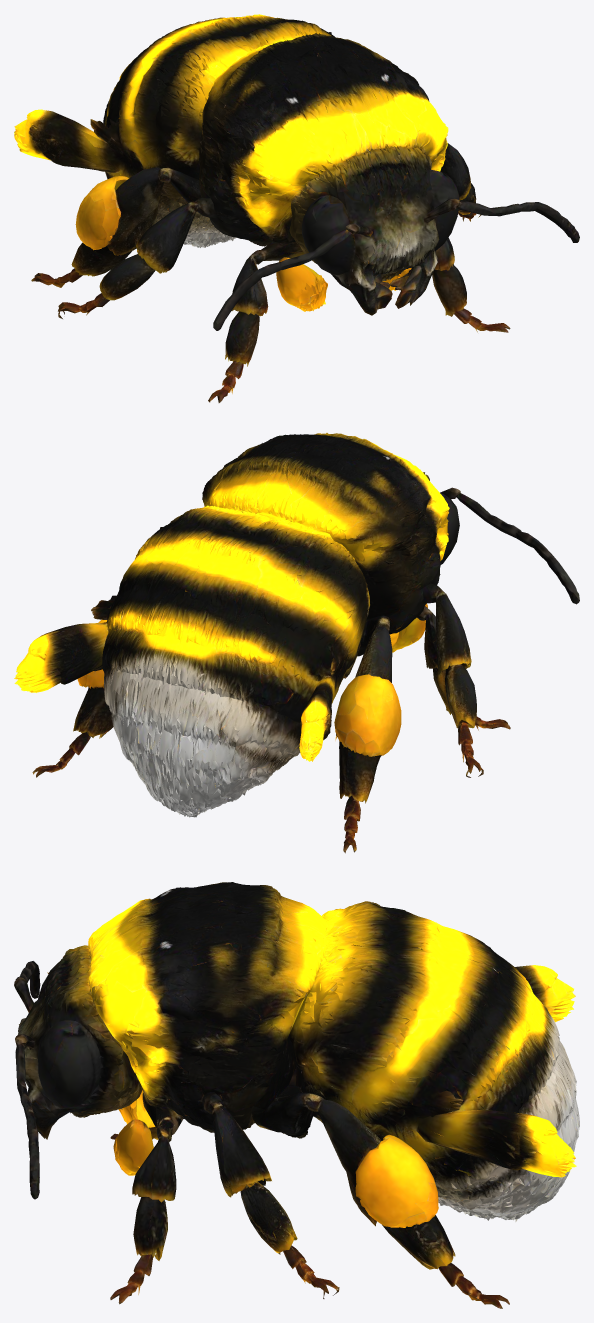
The model's file is bee-fast.glb.
3 views of the same model, one above another, from view 1: azimuth 30°, elevation 25°; view 2: azimuth 150°, elevation 25°; view 3: azimuth 270°, elevation 25° (orthographic). The views are drawn at different scales.
Visible parts, largest first — view 1: Mesh_0; view 2: Mesh_0; view 3: Mesh_0.
Part boxes in pixels (x1,y1,x2,y2): Mesh_0: (14,14,579,402); Mesh_0: (14,433,579,853); Mesh_0: (14,882,579,1308).
Size of the model in its own units: 1.87 by 1.19 by 1.88.
Materials: 1 (1 with a texture image).
